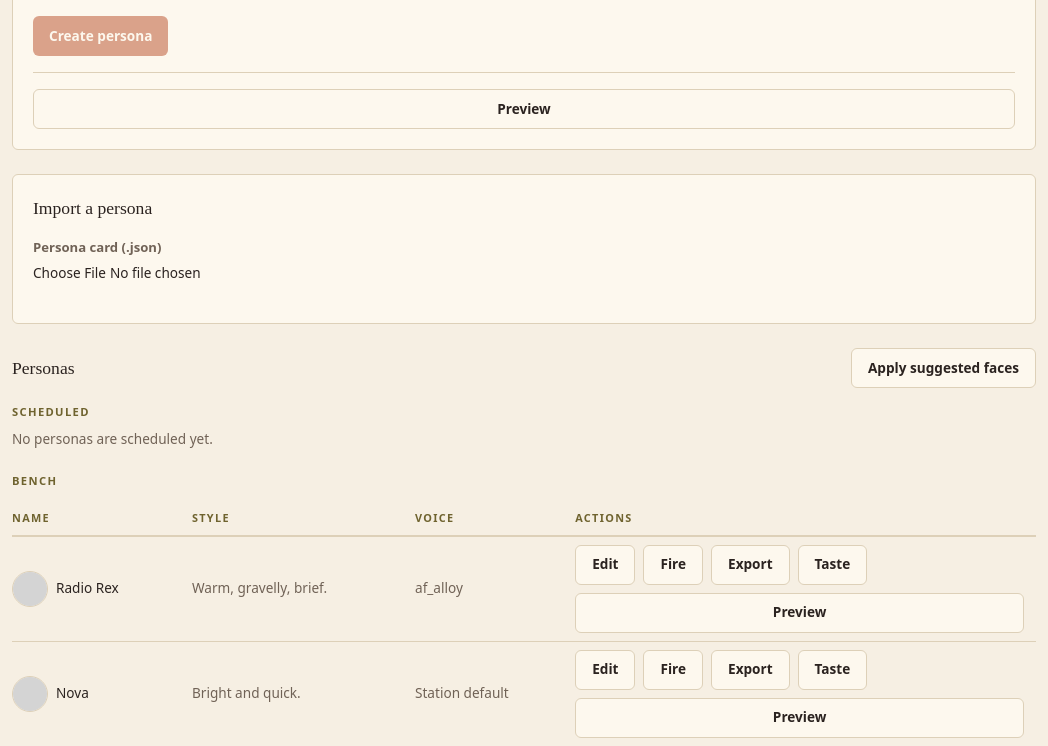
Scenario: Feature: Author personas from the console › Scenario: preview › shows the generated copy text for a saved persona (F35.6)
(page scrolled)
Click the button "Preview" in the row of "Radio Rex". click: (800, 612)
box: [575,592,1024,632]
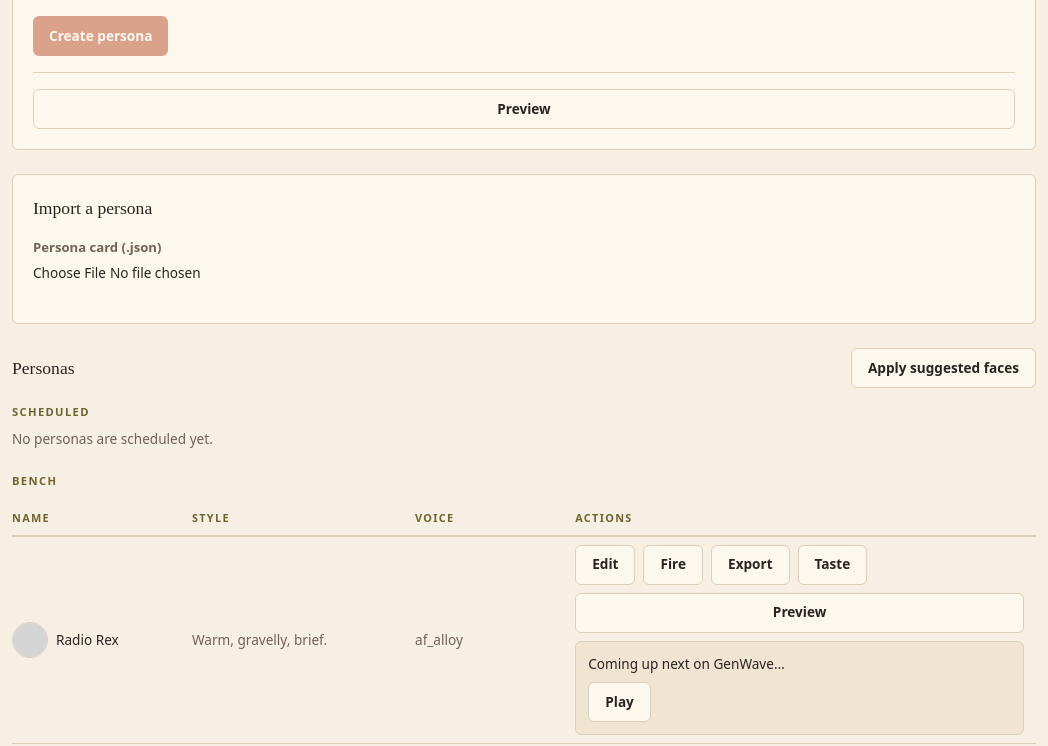
Expected: the text "Coming up next on GenWave…" is shown, [588,654,785,672]
